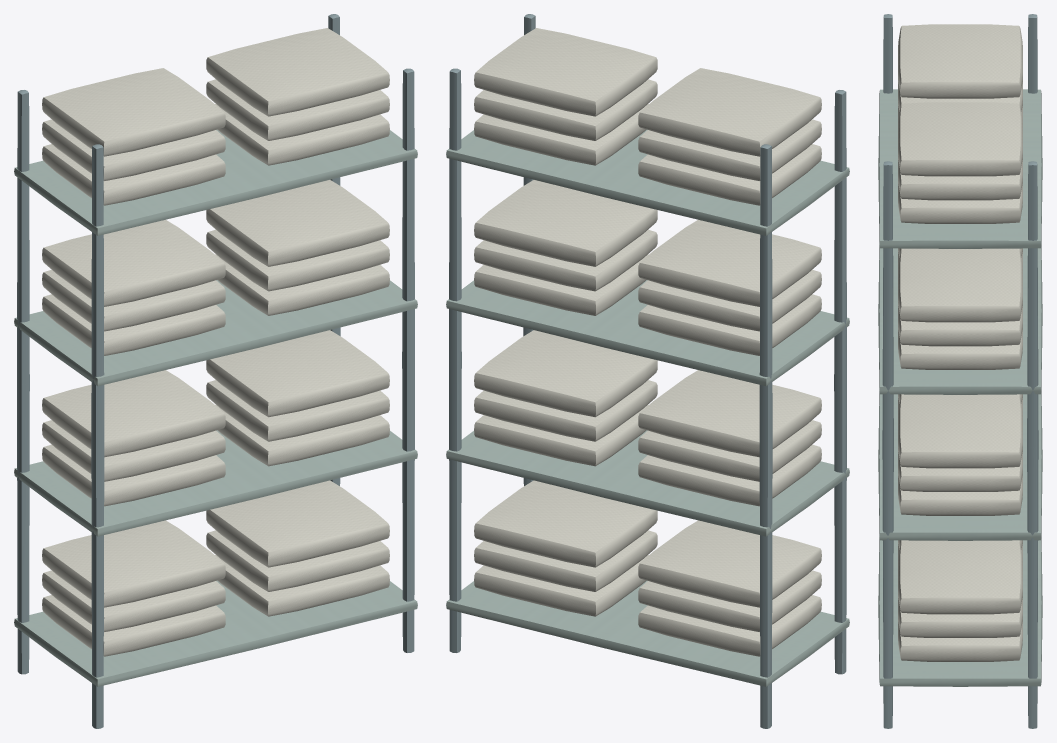
File: linen-shelf.glb
3 views of the same model, side by side, from view 1: azimuth 30°, elevation 25°; view 2: azimuth 150°, elevation 25°; view 3: azimuth 270°, elevation 25° (orthographic). The views are drawn at different scales.
Visible parts, largest first — view 1: linen-shelf; view 2: linen-shelf; view 3: linen-shelf.
Part boxes in pixels (<box>): linen-shelf: <box>14,14,417,728</box>; linen-shelf: <box>446,14,849,728</box>; linen-shelf: <box>878,14,1042,728</box>.
Size of the model in its own units: 1.1 by 1.9 by 0.5.
Materials: 32 (32 with a texture image).
